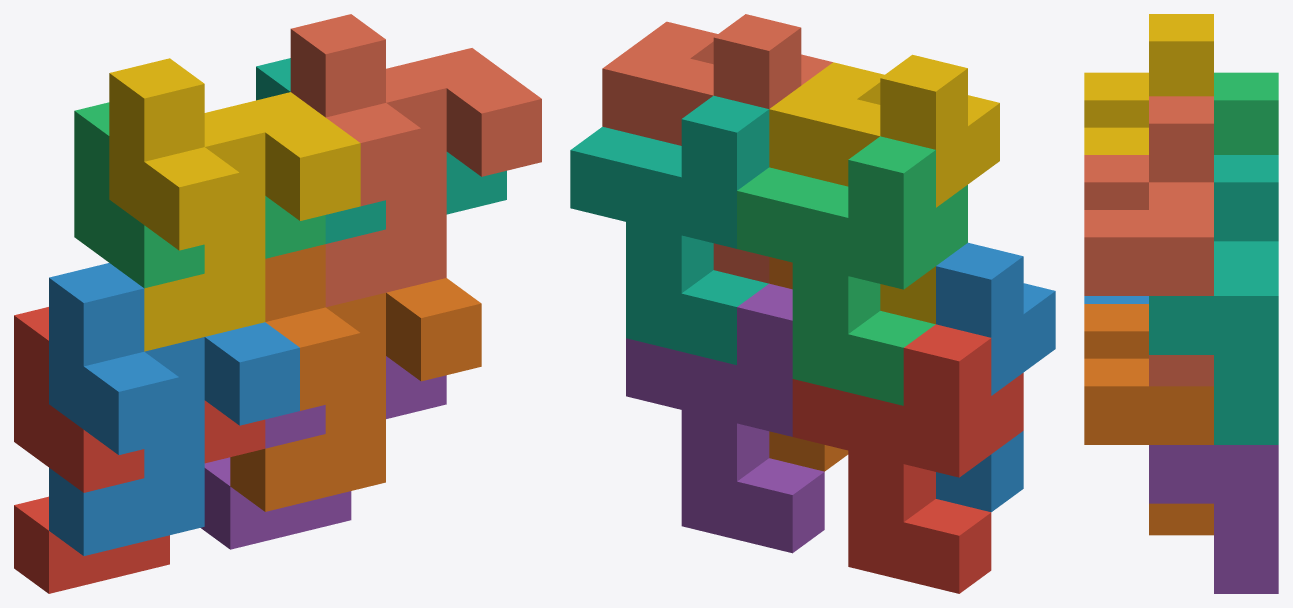
Rendered from tiling.obj.
3 renders of one model, left to right at view 1: azimuth 30°, elevation 25°; view 2: azimuth 150°, elevation 25°; view 3: azimuth 270°, elevation 25°, orthographic. The views are drawn at different scales.
Visible parts, largest first — view 1: copy_1_domain_4, copy_1_domain_2, copy_1_domain_8, copy_1_domain_6, copy_1_domain_1, copy_1_domain_3, copy_1_domain_5, copy_1_domain_7; view 2: copy_1_domain_3, copy_1_domain_1, copy_1_domain_7, copy_1_domain_5, copy_1_domain_4, copy_1_domain_8, copy_1_domain_2, copy_1_domain_6; view 3: copy_1_domain_8, copy_1_domain_7, copy_1_domain_6, copy_1_domain_5, copy_1_domain_4, copy_1_domain_3, copy_1_domain_2.
Boxes of the visible parts, <box> form: copy_1_domain_4: <box>109,58,360,351</box>; copy_1_domain_2: <box>49,263,299,555</box>; copy_1_domain_8: <box>290,14,541,307</box>; copy_1_domain_6: <box>230,244,481,511</box>; copy_1_domain_1: <box>14,307,265,593</box>; copy_1_domain_3: <box>74,102,325,288</box>; copy_1_domain_5: <box>200,356,446,549</box>; copy_1_domain_7: <box>256,58,506,243</box>; copy_1_domain_3: <box>737,136,967,405</box>; copy_1_domain_1: <box>792,324,1023,593</box>; copy_1_domain_7: <box>570,95,769,364</box>; copy_1_domain_5: <box>626,283,824,553</box>; copy_1_domain_4: <box>769,54,999,324</box>; copy_1_domain_8: <box>602,14,832,283</box>; copy_1_domain_2: <box>936,242,1055,512</box>; copy_1_domain_6: <box>769,257,848,471</box>; copy_1_domain_8: <box>1084,96,1213,386</box>; copy_1_domain_7: <box>1149,155,1278,444</box>; copy_1_domain_6: <box>1084,304,1213,535</box>; copy_1_domain_5: <box>1149,445,1278,593</box>; copy_1_domain_4: <box>1084,14,1213,154</box>; copy_1_domain_3: <box>1214,72,1278,154</box>; copy_1_domain_2: <box>1084,296,1148,303</box>.
Size of the model in its own units: 7 by 8 by 3.
